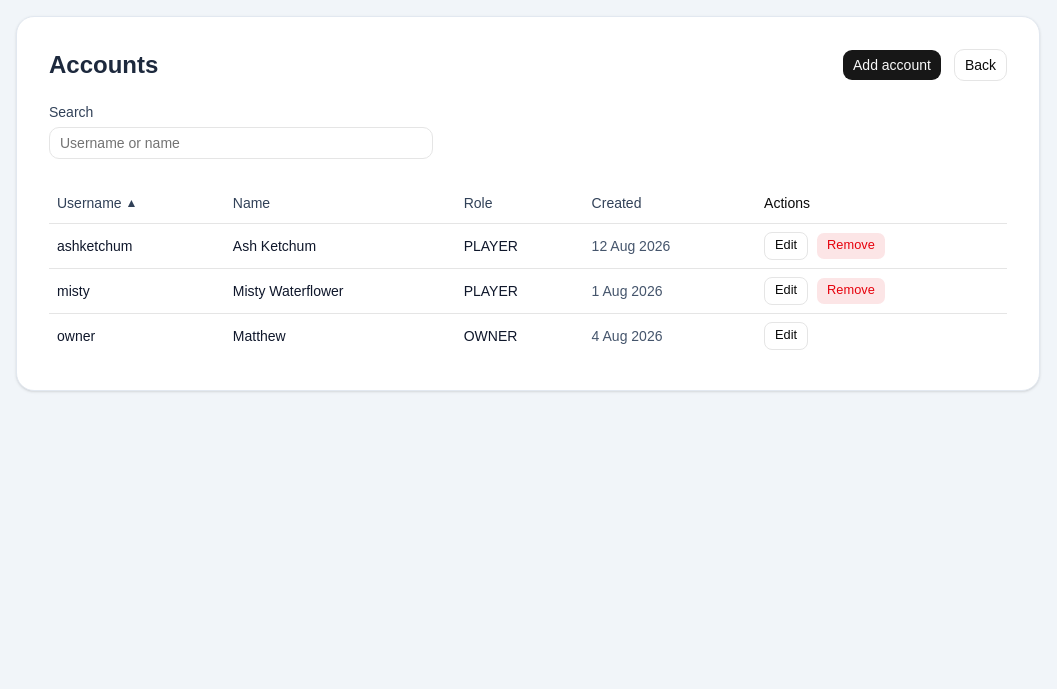
Test: AccountsPage › refuses a username with a space in it, without sending anything
Expected: the text "ashketchum" is shown, [49,223,225,268]
Click the button "Add account": [892, 65] box [842,49,942,81]
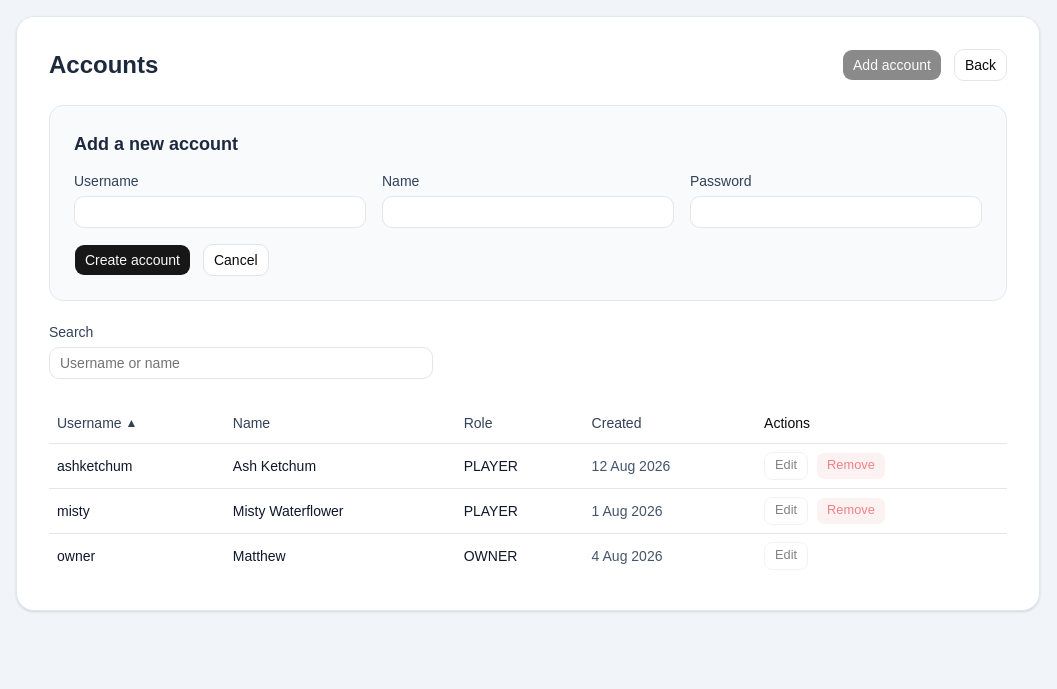
In the field labelled "Username": [220, 212] box [74,196,366,228], type "ash ketchum"
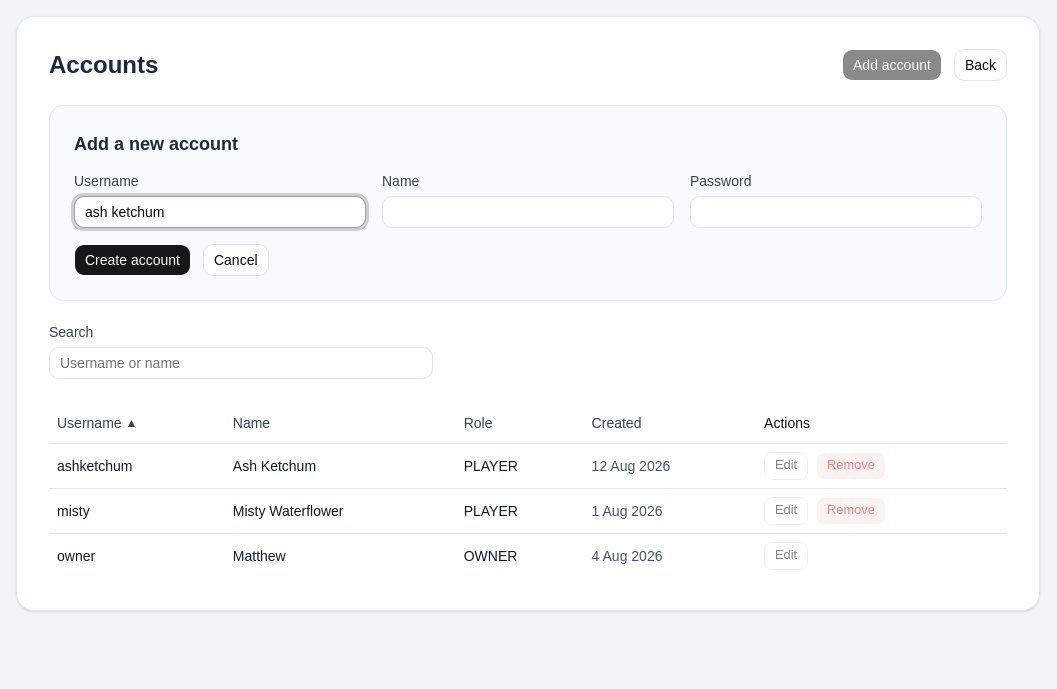
In the field labelled "Name": [528, 212] box [382,196,674,228], type "Ash Ketchum"
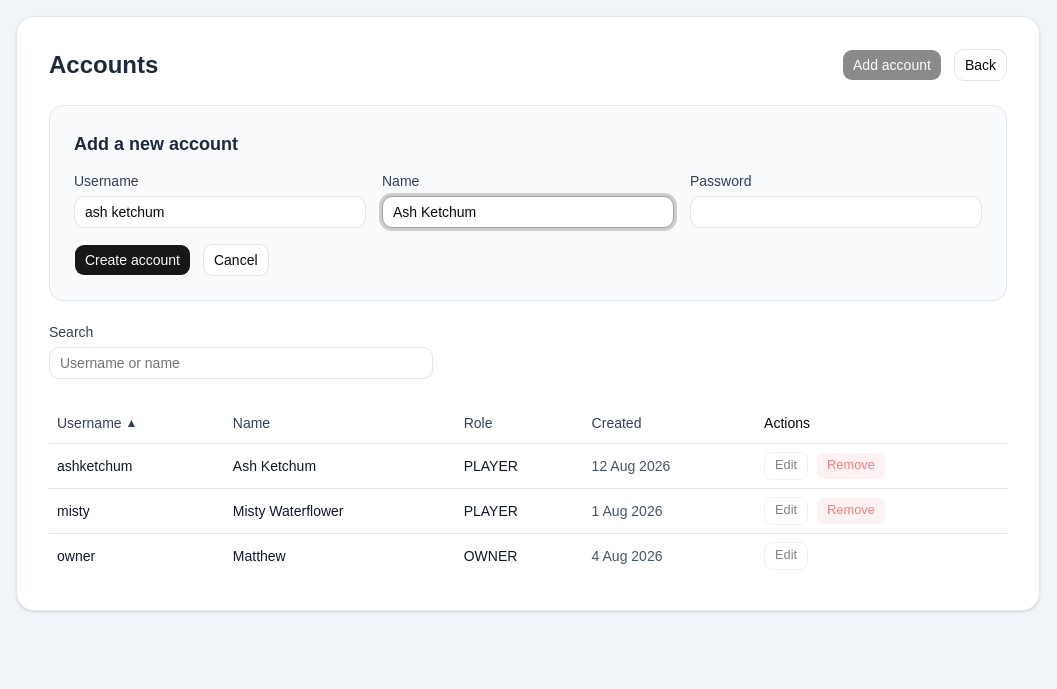
In the password field labelled "Password": [836, 212] box [690,196,982,228], type "pikachu2026"
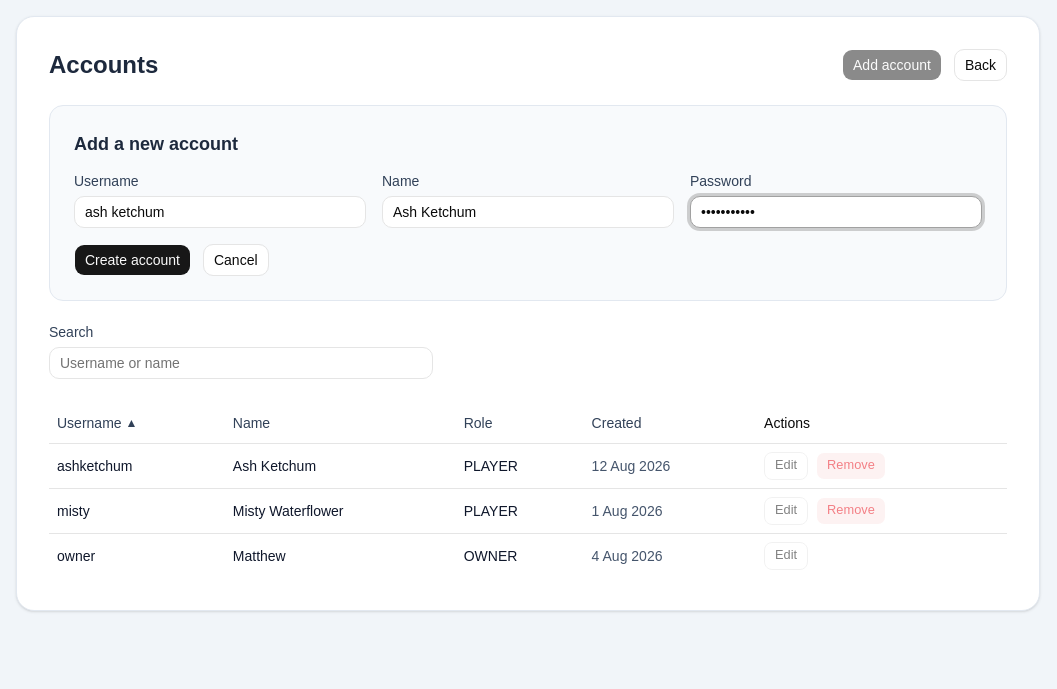
Click the button "Create account": [132, 260] box [74,244,191,276]
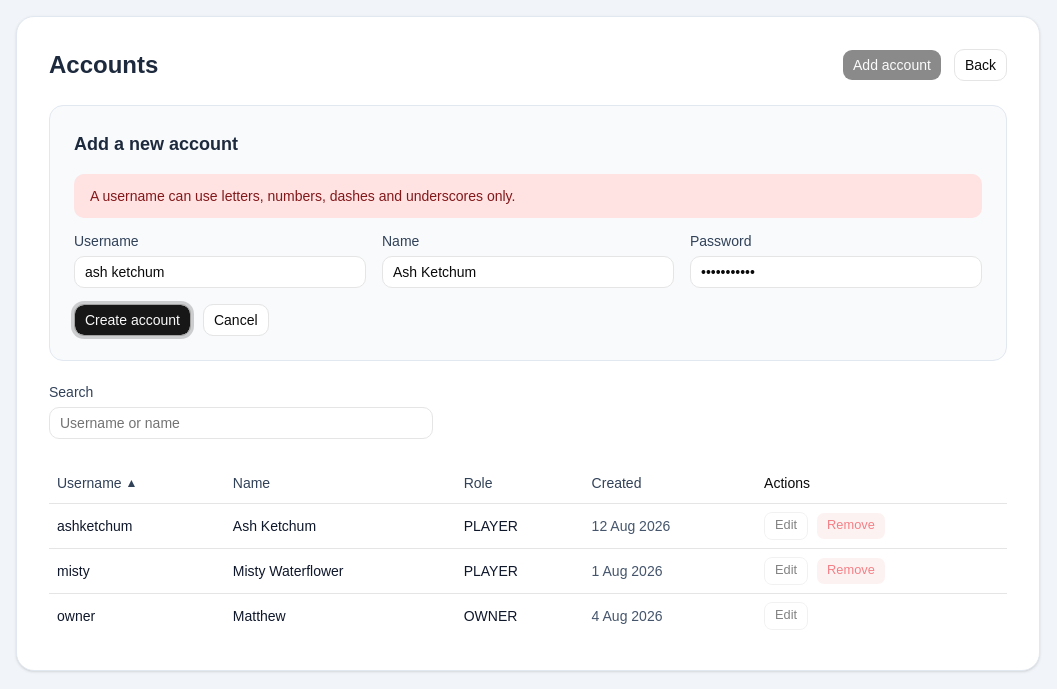
Now the message reads "A username can use letters, numbers, dashes and underscores only.", box [90,188,515,204]
